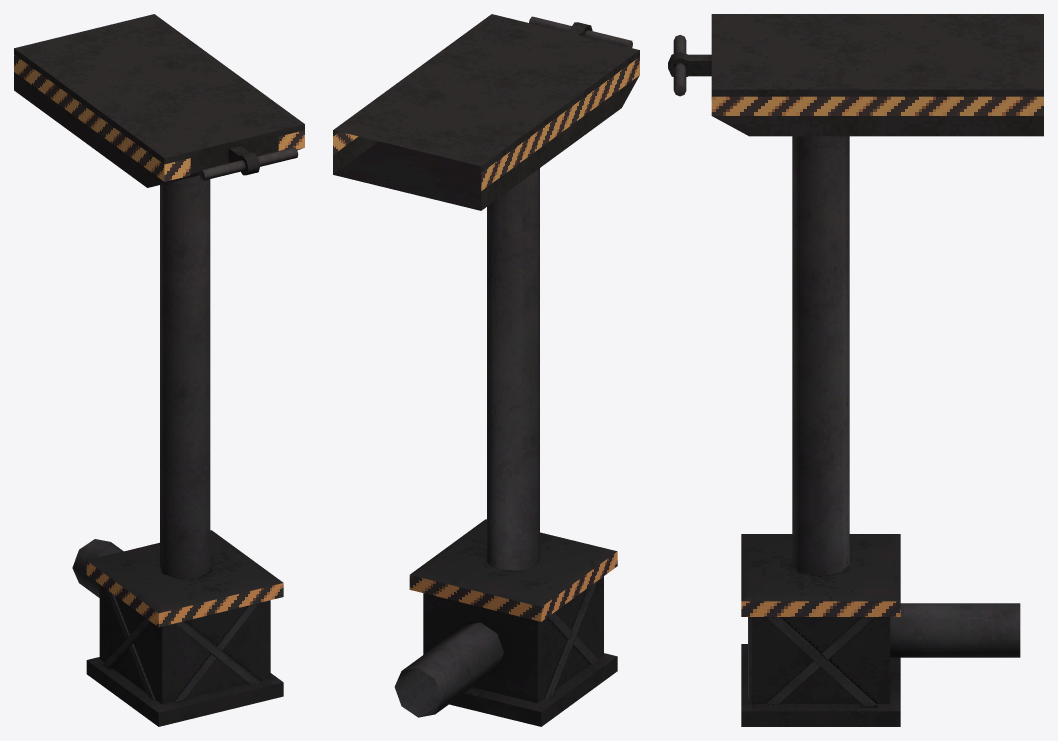
The picture shows the model from 3 angles, left to right: view 1: azimuth 30°, elevation 25°; view 2: azimuth 150°, elevation 25°; view 3: azimuth 270°, elevation 25°; orthographic projection. The views are drawn at different scales.
Visible parts, largest first — view 1: 1; view 2: 1; view 3: 1.
Part boxes in pixels (x1,y1,x2,y2): 1: (14,14,304,726); 1: (333,14,639,726); 1: (668,14,1043,726).
Bounding box in the file's own units: 1.13 × 4.51 × 2.38.
Materials: 1 (1 with a texture image).
